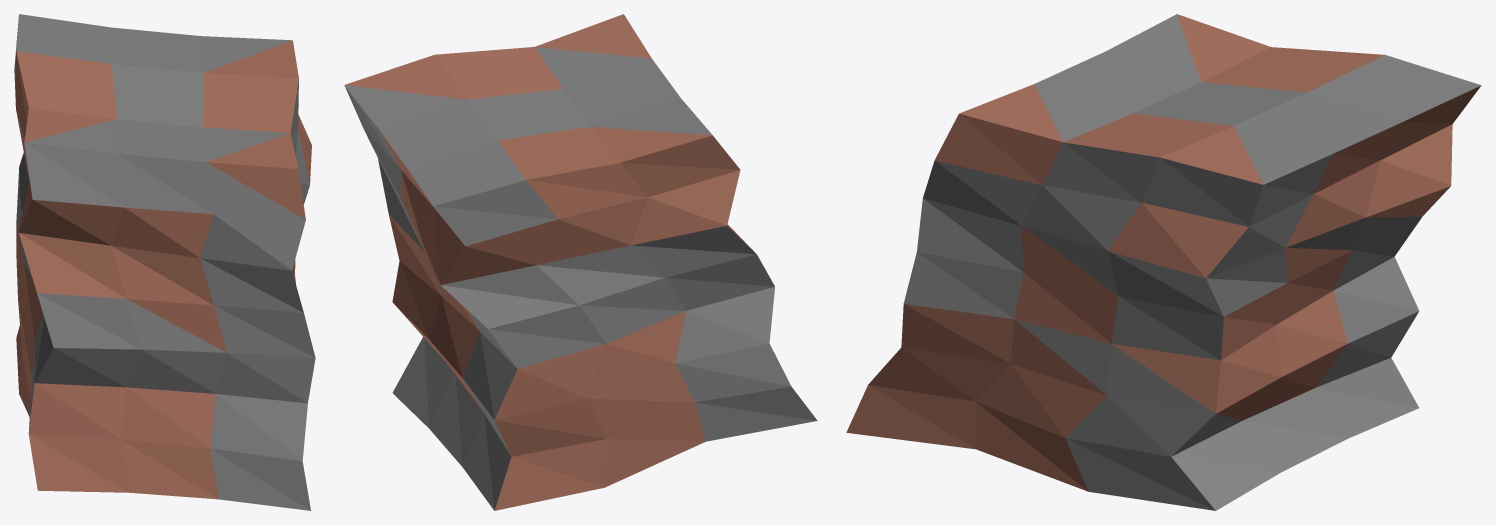
File: Resource Metal.fbx
3 renders of one model, left to right at view 1: azimuth 30°, elevation 25°; view 2: azimuth 150°, elevation 25°; view 3: azimuth 270°, elevation 25°, orthographic. The views are drawn at different scales.
Parts seen in each view (by area): view 1: Resource Metal; view 2: Resource Metal; view 3: Resource Metal.
Boxes of the visible parts, x1,y1,x2,y2 form: Resource Metal: [14, 14, 315, 510]; Resource Metal: [344, 14, 817, 510]; Resource Metal: [846, 14, 1481, 510].
Bounding box in the file's own units: 246 × 206 × 339.
